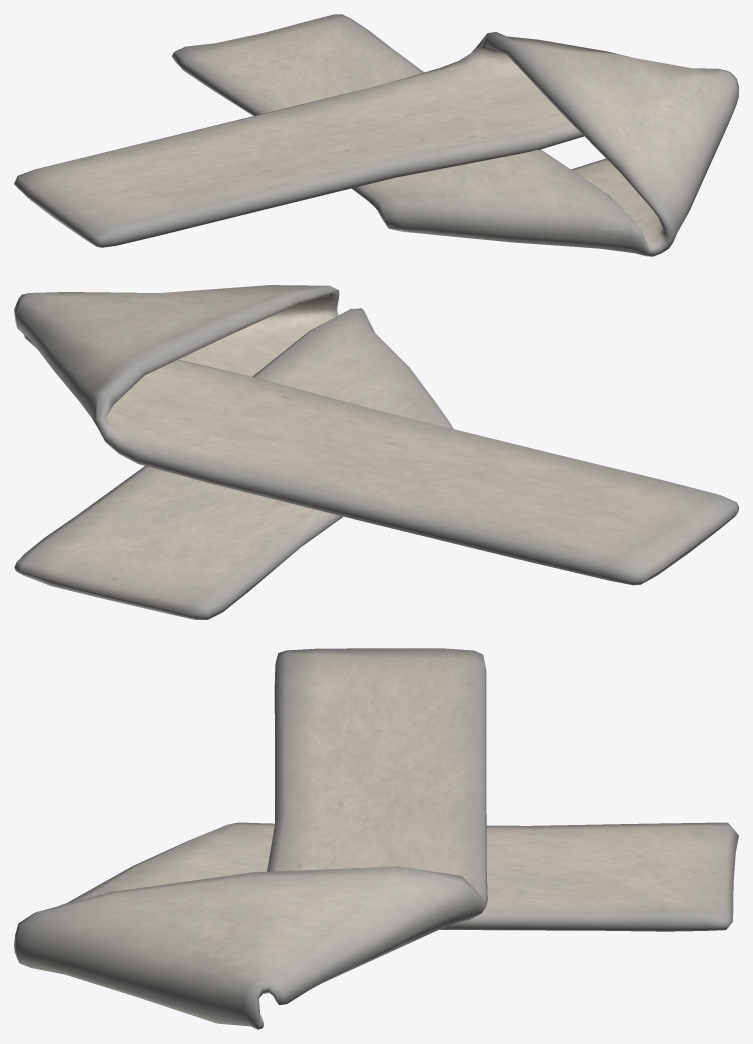
The model's file is foldednote2.obj.
The picture shows the model from 3 angles, top to bottom: view 1: azimuth 30°, elevation 25°; view 2: azimuth 150°, elevation 25°; view 3: azimuth 270°, elevation 25°; orthographic projection. The views are drawn at different scales.
Visible parts, largest first — view 1: note_low; view 2: note_low; view 3: note_low.
Boxes of the visible parts, x1,y1,x2,y2 form: note_low: (14, 14, 738, 256); note_low: (14, 285, 738, 619); note_low: (14, 648, 738, 1029).
Size of the model in its own units: 0.9091 by 0.1269 by 0.7638.
